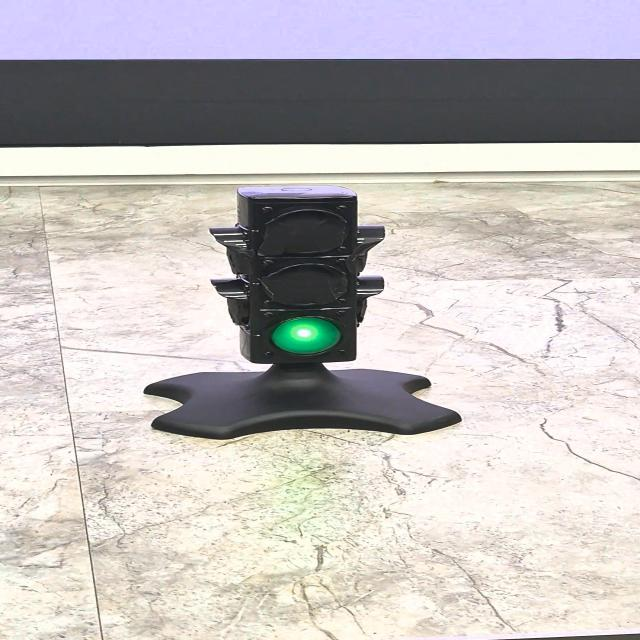green_light: (272, 318, 340, 354)
